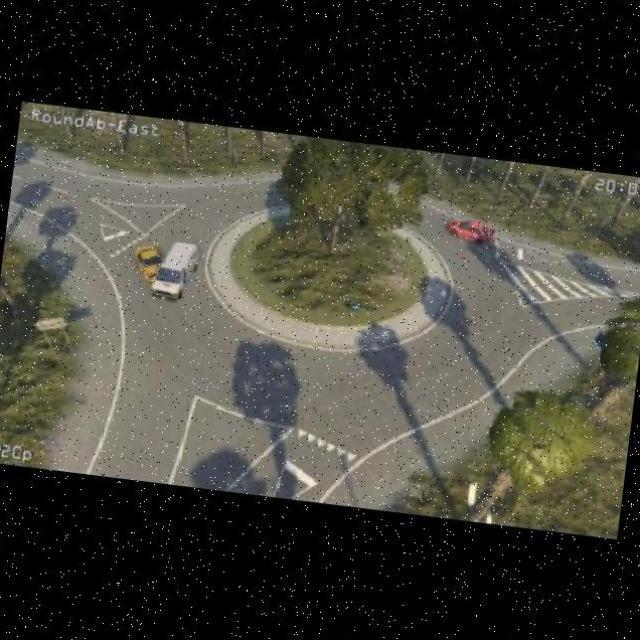accident: (128, 243, 181, 297)
